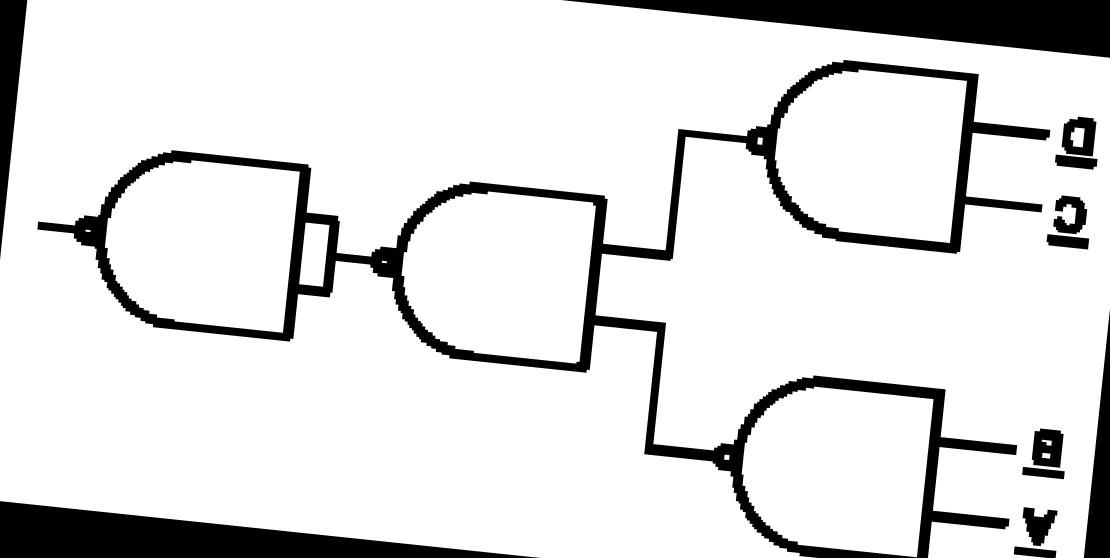nand: (726, 37, 989, 266), (53, 130, 321, 354), (350, 164, 617, 384), (687, 349, 954, 558)
